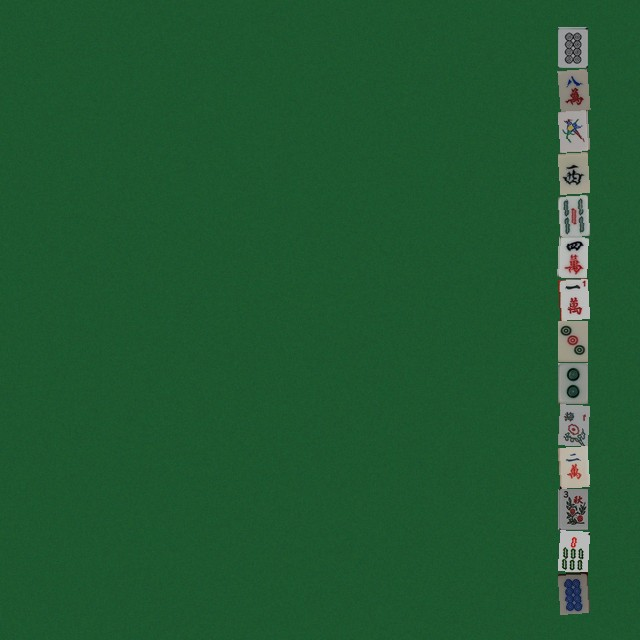tile: (557, 26, 587, 67), (557, 68, 587, 109), (557, 110, 587, 151), (557, 152, 587, 193), (557, 194, 587, 235), (557, 236, 587, 277), (557, 278, 587, 319), (557, 320, 587, 361), (557, 362, 587, 403), (557, 404, 587, 445), (557, 446, 587, 487), (557, 488, 587, 529), (557, 530, 587, 571), (557, 572, 587, 613)
